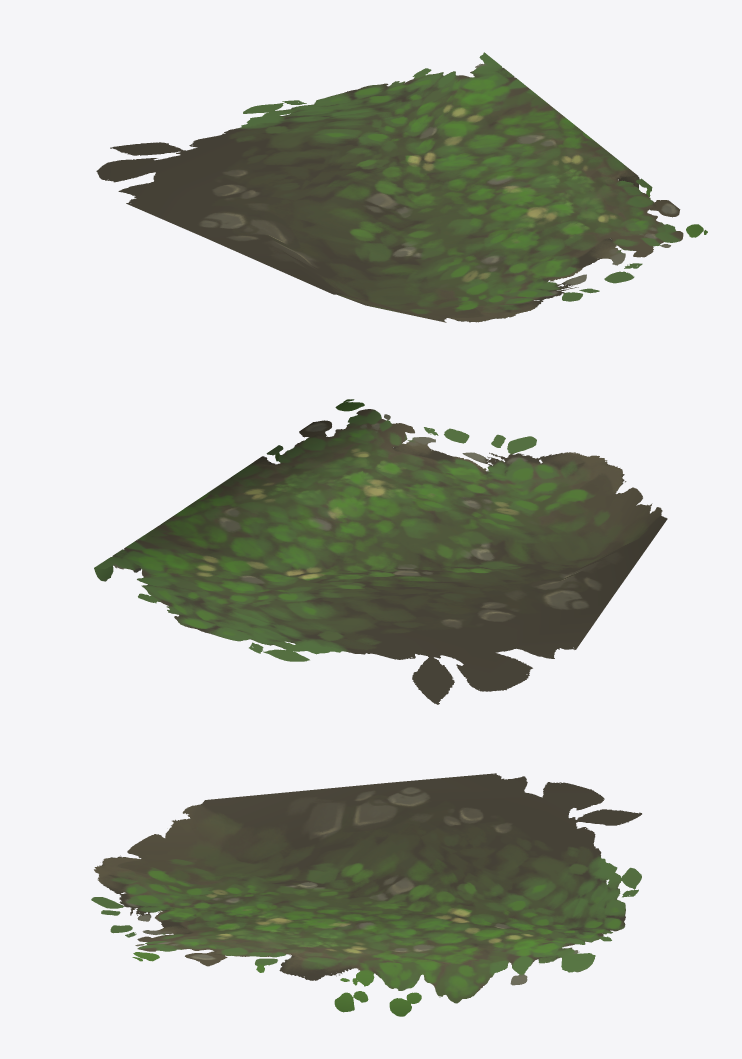
Rendered from moss_01.fbx.
3 renders of one model, top to bottom at view 1: azimuth 30°, elevation 25°; view 2: azimuth 150°, elevation 25°; view 3: azimuth 270°, elevation 25°, orthographic. The views are drawn at different scales.
Visible parts, largest first — view 1: moss1; view 2: moss1; view 3: moss1.
Boxes of the visible parts, <box> form: moss1: <box>96,52,707,322</box>; moss1: <box>94,399,667,704</box>; moss1: <box>91,773,641,1016</box>.
Bounding box in the file's own units: 1.23 × 0.2497 × 1.67.
